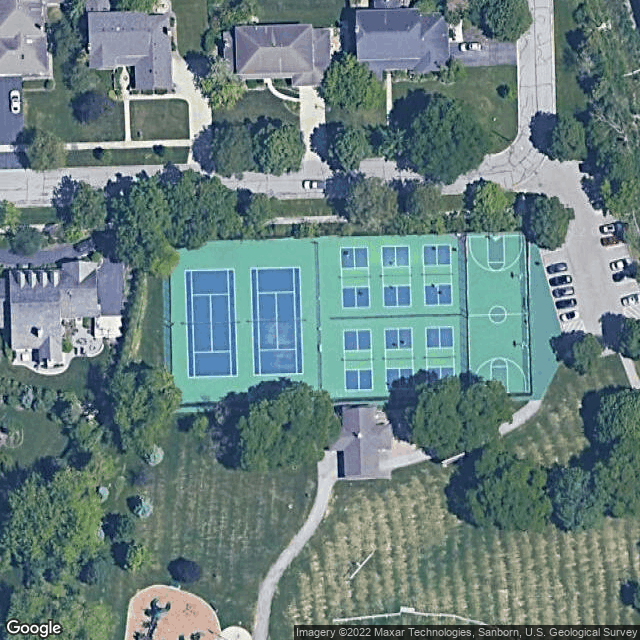Court: (182, 268, 239, 379), (249, 266, 305, 377)
